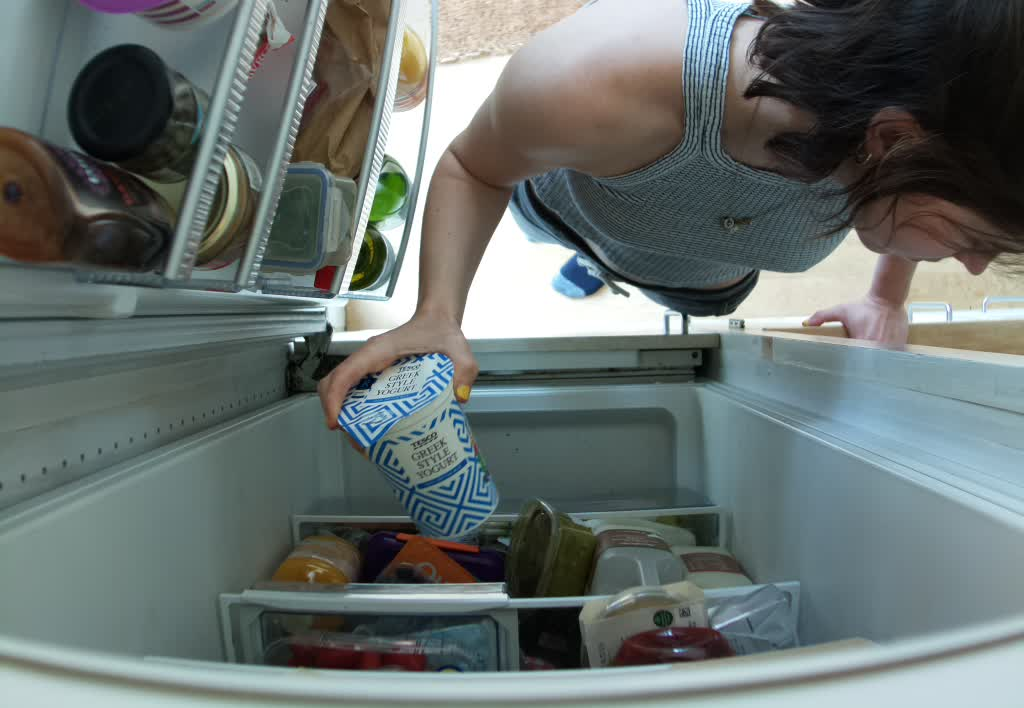yogurt: (335, 347, 505, 547)
